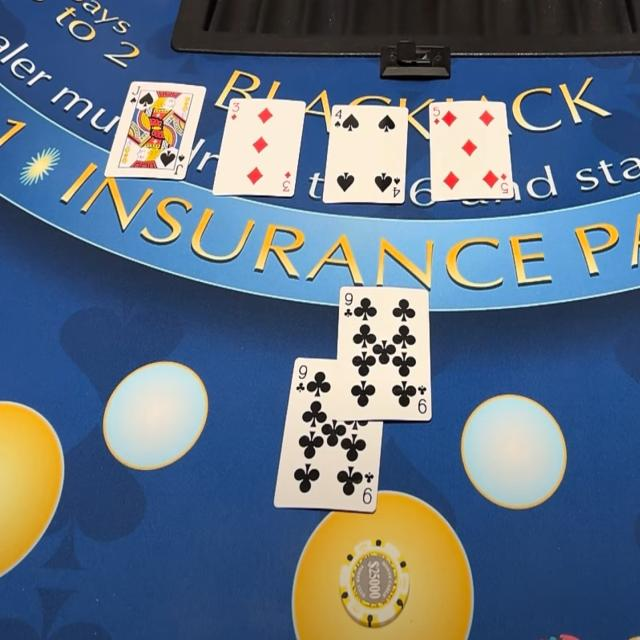3: (231, 101, 240, 113)
4: (333, 107, 343, 120)
5: (431, 106, 441, 117)
9: (296, 363, 310, 380), (342, 290, 354, 307)
J: (131, 83, 141, 96)
